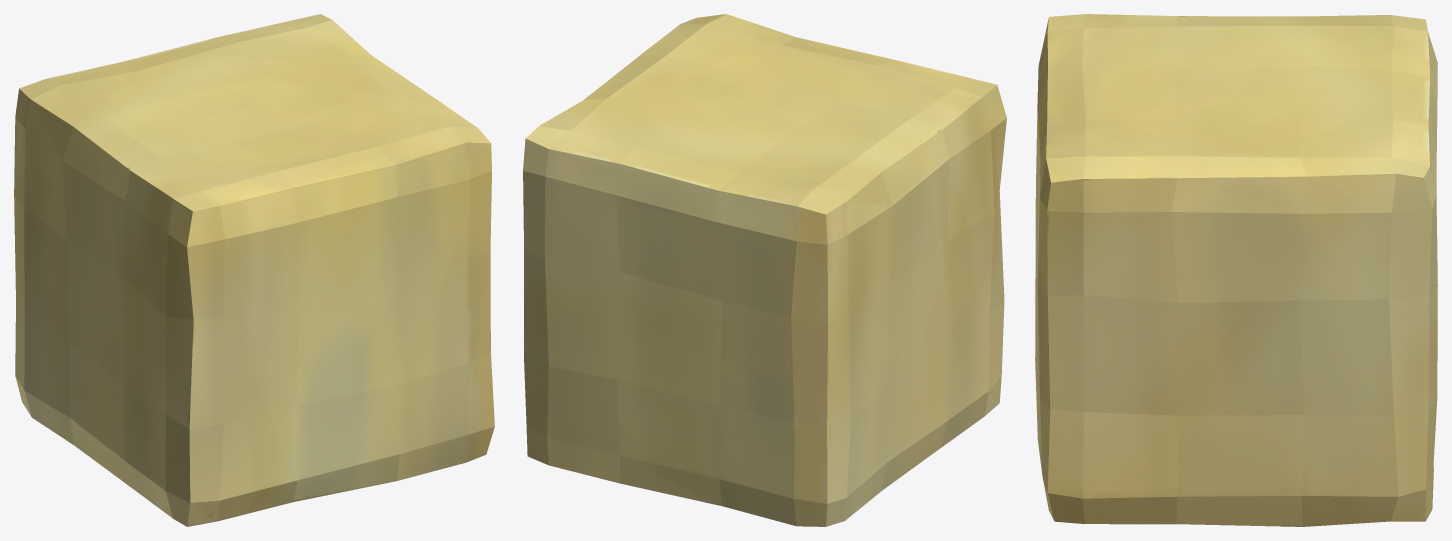
Rendered from haybox.fbx.
3 renders of one model, left to right at view 1: azimuth 30°, elevation 25°; view 2: azimuth 150°, elevation 25°; view 3: azimuth 270°, elevation 25°, orthographic. The views are drawn at different scales.
Parts seen in each view (by area): view 1: Cube; view 2: Cube; view 3: Cube.
Part boxes in pixels (x1,y1,x2,y2): Cube: (14,14,494,526); Cube: (523,14,1006,526); Cube: (1035,14,1437,526).
Size of the model in its own units: 204 by 203 by 203.
Materials: 1 (1 with a texture image).
